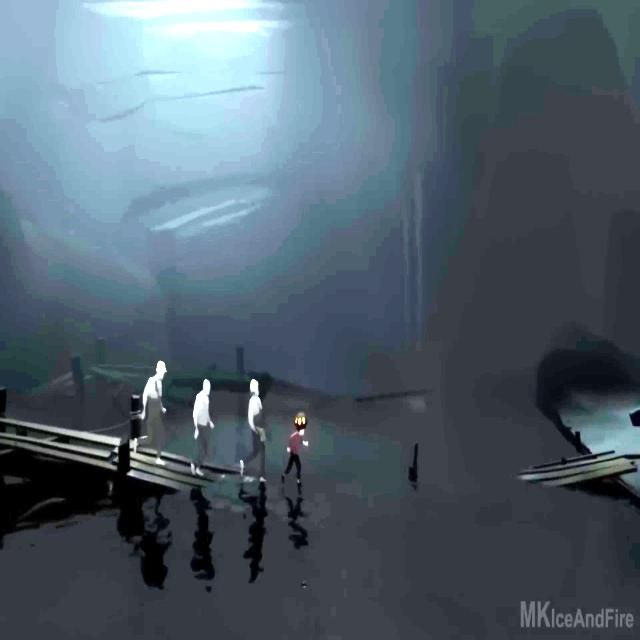boy: (282, 430, 308, 488)
zombie: (134, 361, 166, 465), (240, 380, 269, 483), (190, 380, 214, 479)
